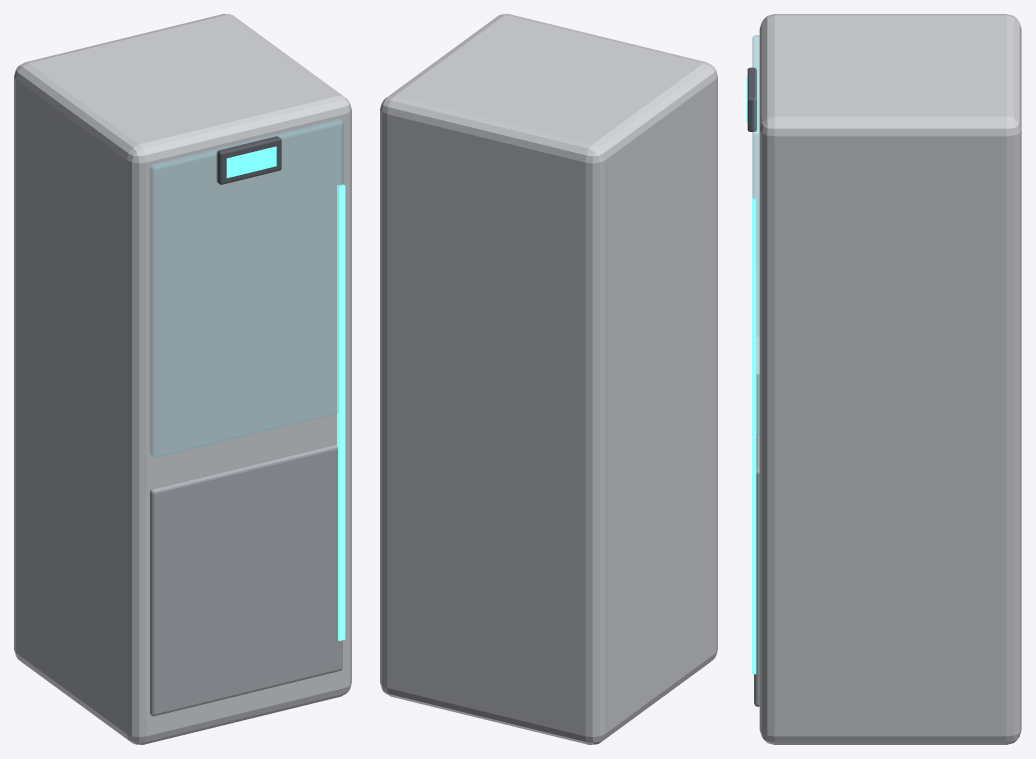
The model's file is fridge_cryo_unit.glb.
3 views of the same model, side by side, from view 1: azimuth 30°, elevation 25°; view 2: azimuth 150°, elevation 25°; view 3: azimuth 270°, elevation 25° (orthographic). The views are drawn at different scales.
Visible parts, largest first — view 1: GD_fridge_cryo_unit__m0, GD_fridge_cryo_unit__m1, GD_fridge_cryo_unit__m2, GD_fridge_cryo_unit__m3, GD_fridge_cryo_unit__m4, GD_fridge_cryo_unit__m5; view 2: GD_fridge_cryo_unit__m0; view 3: GD_fridge_cryo_unit__m0, GD_fridge_cryo_unit__m3, GD_fridge_cryo_unit__m1, GD_fridge_cryo_unit__m2, GD_fridge_cryo_unit__m4.
Boxes of the visible parts, x1=… form: GD_fridge_cryo_unit__m0: x1=14, y1=14, x2=351, y2=744; GD_fridge_cryo_unit__m1: x1=150, y1=119, x2=343, y2=457; GD_fridge_cryo_unit__m2: x1=150, y1=444, x2=342, y2=716; GD_fridge_cryo_unit__m3: x1=337, y1=184, x2=345, y2=640; GD_fridge_cryo_unit__m4: x1=216, y1=136, x2=281, y2=184; GD_fridge_cryo_unit__m5: x1=226, y1=146, x2=276, y2=178; GD_fridge_cryo_unit__m0: x1=380, y1=14, x2=717, y2=744; GD_fridge_cryo_unit__m0: x1=759, y1=14, x2=1021, y2=744; GD_fridge_cryo_unit__m3: x1=752, y1=196, x2=756, y2=674; GD_fridge_cryo_unit__m1: x1=752, y1=35, x2=759, y2=435; GD_fridge_cryo_unit__m2: x1=754, y1=374, x2=759, y2=706; GD_fridge_cryo_unit__m4: x1=747, y1=67, x2=756, y2=131.
Bounding box in the file's own units: 0.72 × 1.85 × 0.7355.
